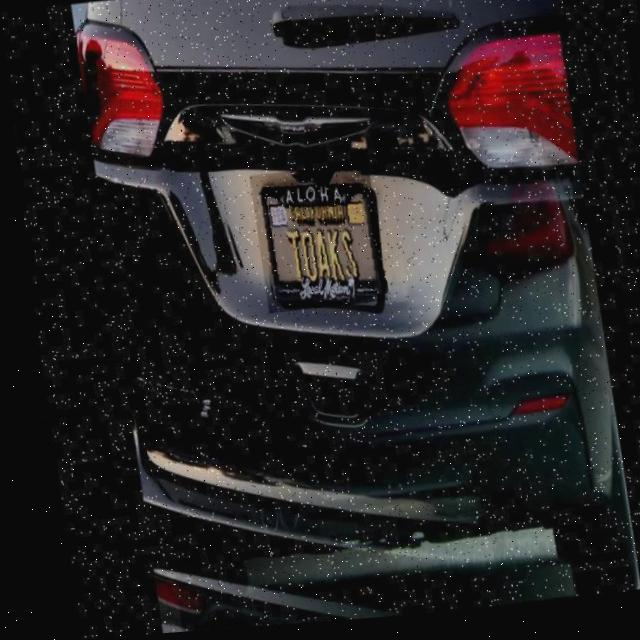LicensePlate: (244, 168, 380, 317)
